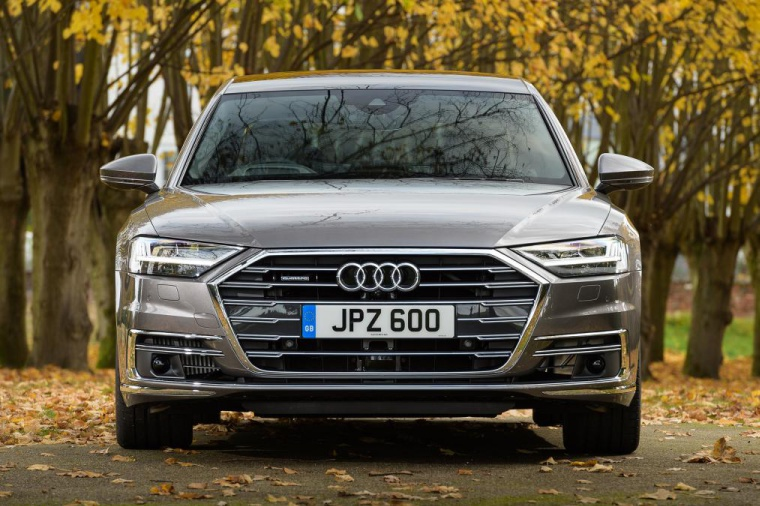audi: (327, 261, 426, 294)
